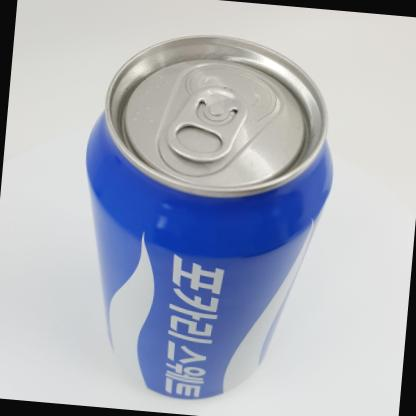alumunium_can: (56, 20, 354, 413)
